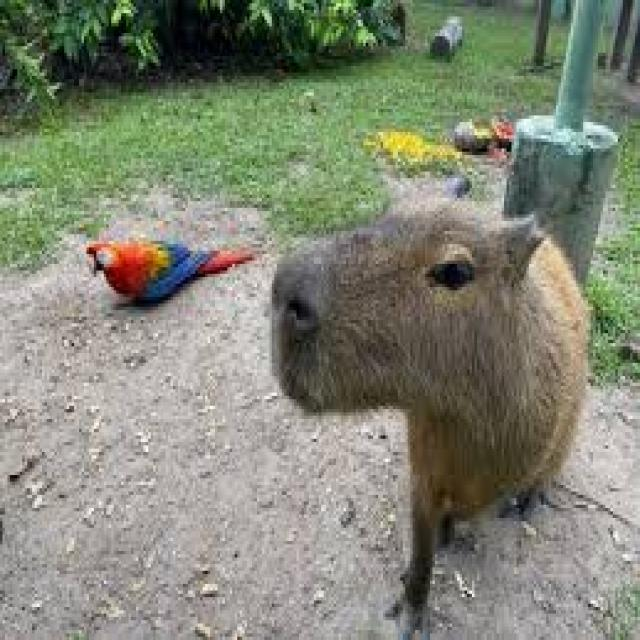capy: (266, 173, 592, 640)
